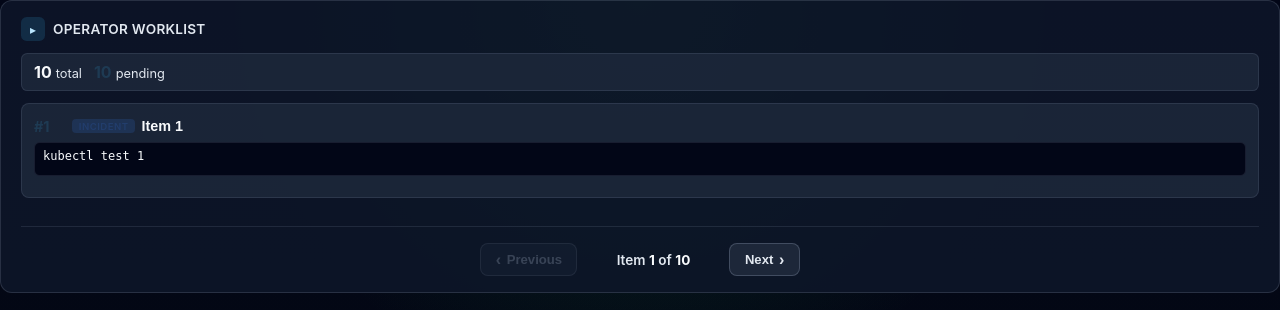
Test: OperatorWorklistCard Pagination › 4. Next button moves to next page and shows backend rank #2
The image size is (1280, 310).
# Click Next button wrapped in act to handle state updates
Click the button with aria-label "worklist next page": (765, 260) [730,243,800,276]
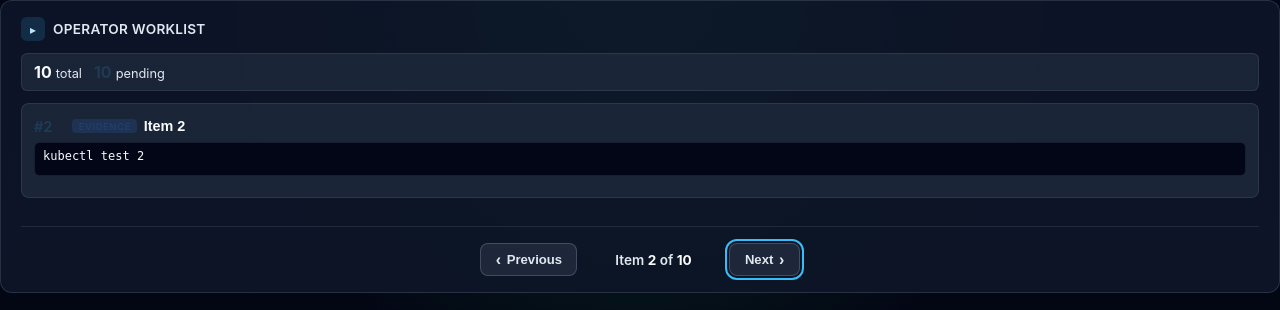
expect the element showing "Item 2 of 10" is shown: met, box [615,252,692,268]
expect the list item with test id "worklist-item-2" is shown: met, box [21,103,1259,198]
expect the list item with test id "worklist-item-1" is gone: met
